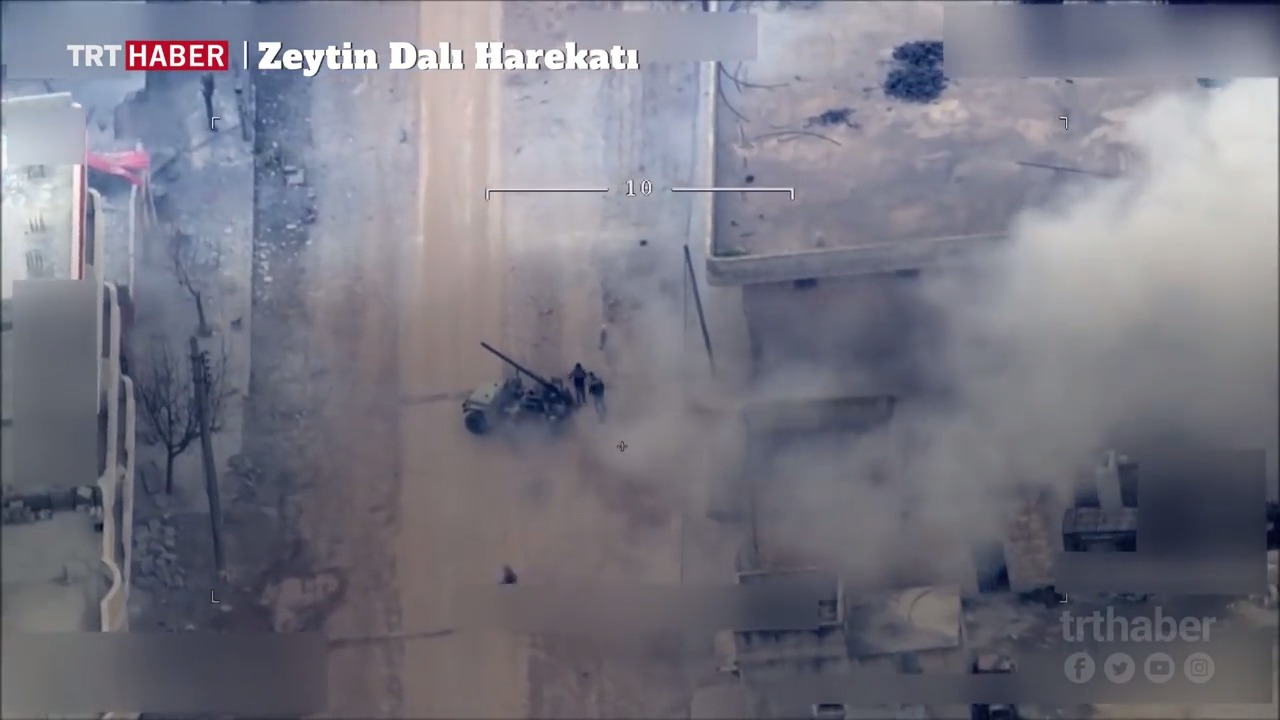arac: (451, 337, 574, 434)
insan: (566, 356, 590, 414), (587, 368, 612, 423)
